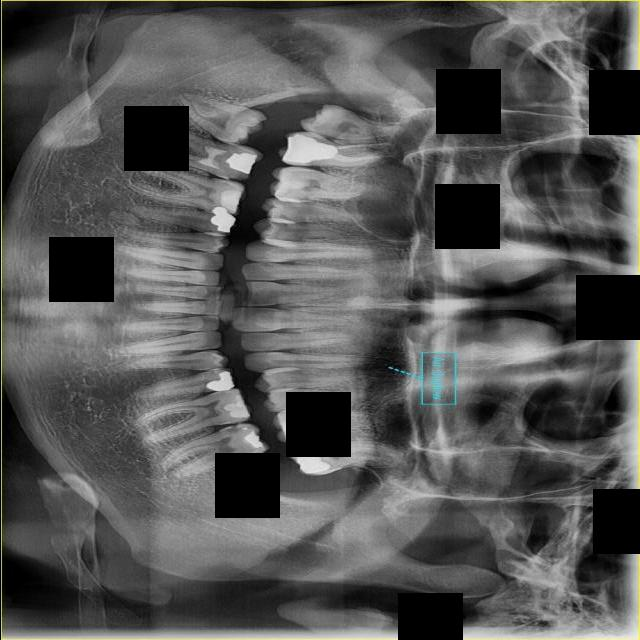74: (330, 152, 382, 163), (335, 143, 389, 151)
NucleOSS Implant: (282, 132, 338, 172), (223, 145, 258, 175), (207, 205, 237, 234), (294, 450, 328, 475), (203, 370, 234, 395), (243, 429, 266, 451)
Sterngold Implant: (217, 420, 247, 441), (221, 172, 244, 182), (253, 256, 276, 264), (216, 179, 235, 188), (299, 408, 317, 416), (254, 263, 275, 269), (221, 418, 239, 425), (214, 389, 229, 396), (277, 201, 294, 207), (279, 215, 291, 221)
Straumann Implant: (218, 393, 250, 426), (277, 418, 310, 440), (216, 185, 241, 214)
